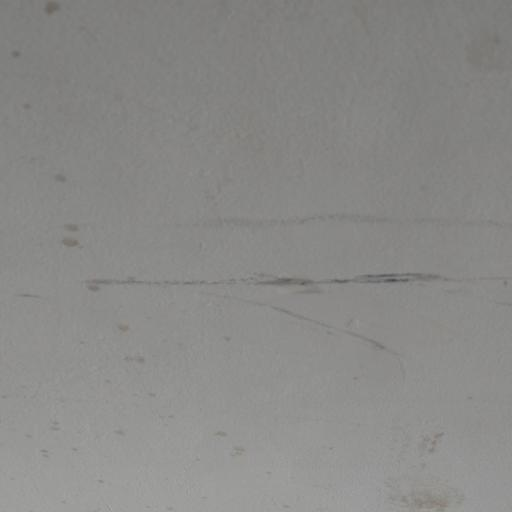stain: (46, 201, 475, 384), (404, 420, 487, 512)
